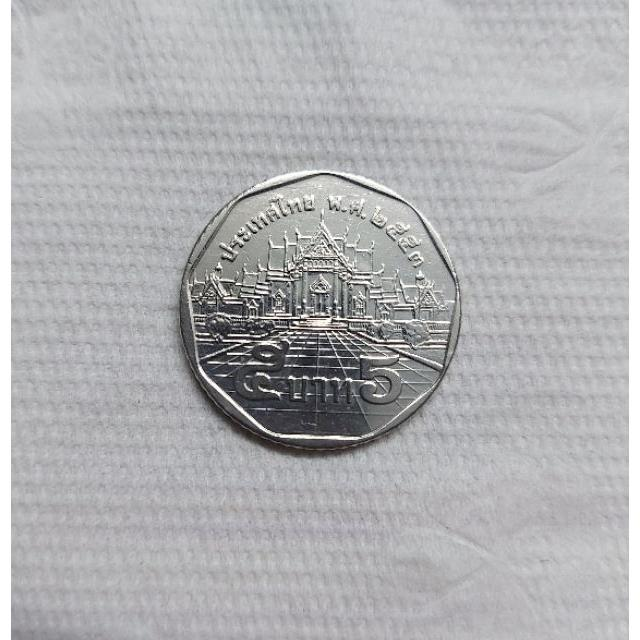5-baht: (177, 160, 473, 466)
